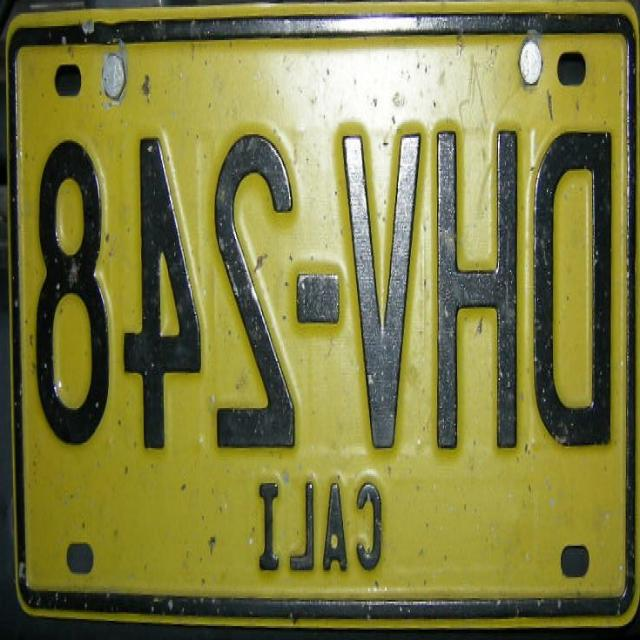placas: (7, 10, 636, 454)
